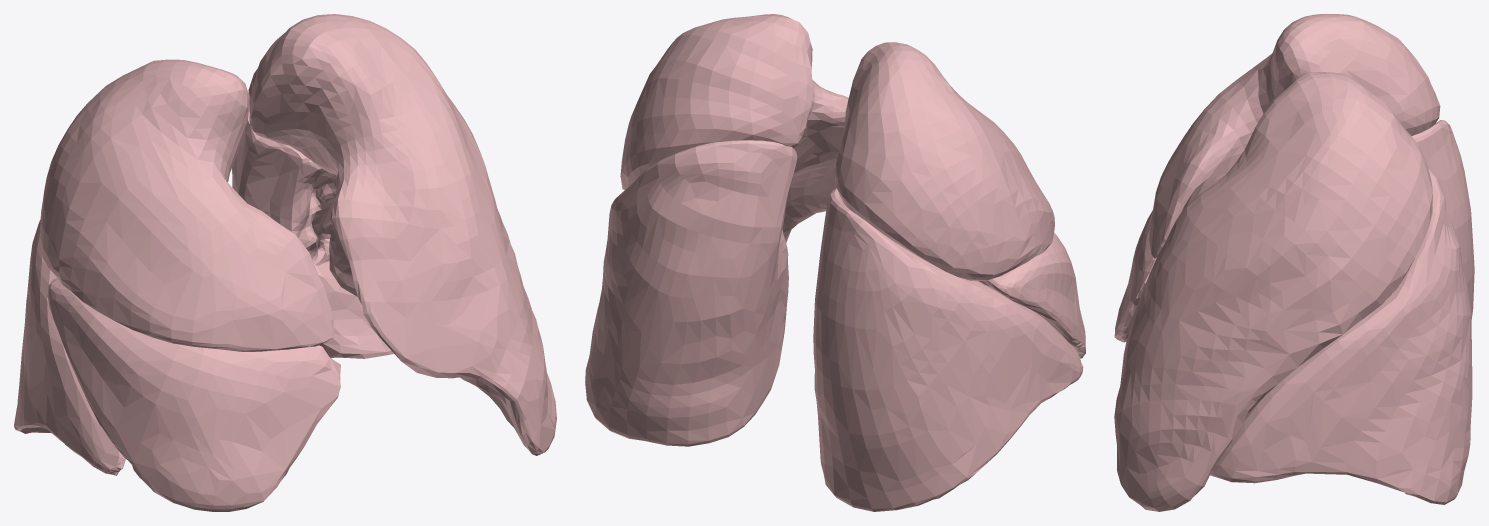
File: lungs.glb
3 renders of one model, left to right at view 1: azimuth 30°, elevation 25°; view 2: azimuth 150°, elevation 25°; view 3: azimuth 270°, elevation 25°, orthographic. The views are drawn at different scales.
Parts seen in each view (by area): view 1: VH_M_hilum_L; view 2: VH_M_hilum_L; view 3: VH_M_hilum_L.
Part boxes in pixels (x1,y1,x2,y2): VH_M_hilum_L: (14,14,556,511); VH_M_hilum_L: (585,14,1085,511); VH_M_hilum_L: (1114,14,1474,511).
Bounding box in the file's own units: 0.2594 × 0.2291 × 0.1897.
